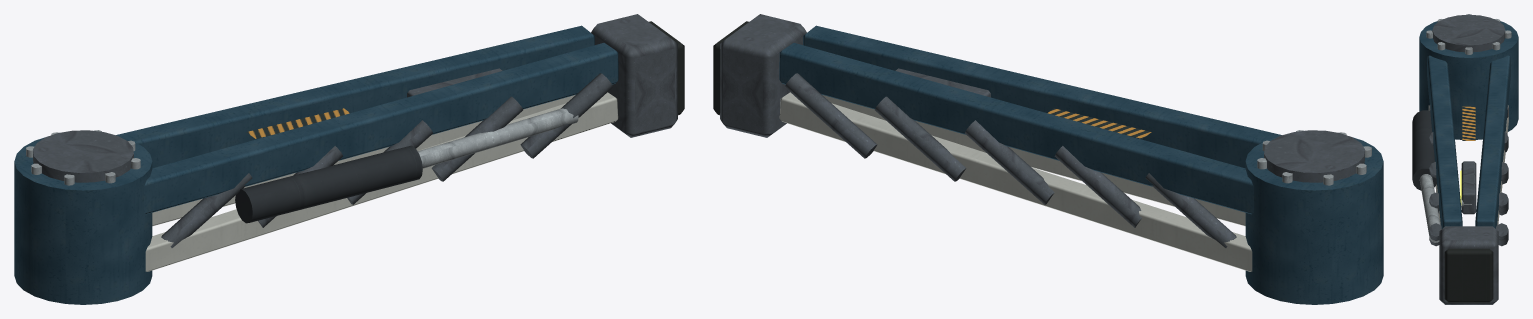
Rendered from arm_port.fbx.
3 views of the same model, side by side, from view 1: azimuth 30°, elevation 25°; view 2: azimuth 150°, elevation 25°; view 3: azimuth 270°, elevation 25° (orthographic). The views are drawn at different scales.
Visible parts, largest first — view 1: SM_aster_arm_port; view 2: SM_aster_arm_port; view 3: SM_aster_arm_port.
Part boxes in pixels (x1,y1,x2,y2): SM_aster_arm_port: (14,14,684,304); SM_aster_arm_port: (713,14,1383,304); SM_aster_arm_port: (1412,14,1518,304).
Size of the model in its own units: 2.78 by 0.51 by 0.55.
8 materials, 7 textured.
